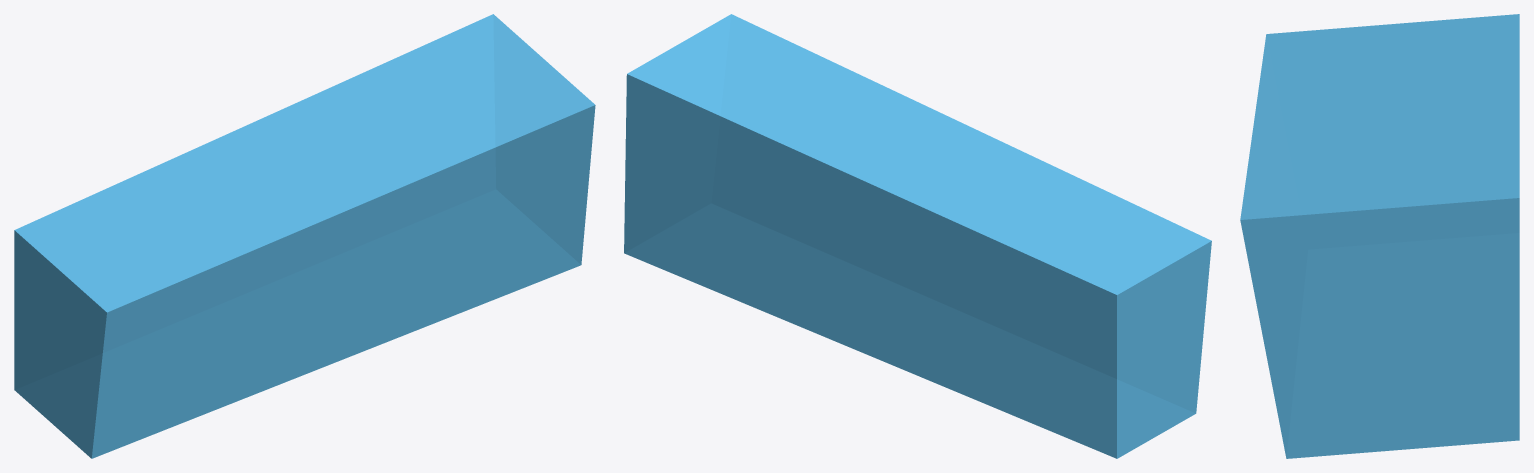
File: Event_421127236_HErechit_19.fbx
3 renders of one model, left to right at view 1: azimuth 30°, elevation 25°; view 2: azimuth 150°, elevation 25°; view 3: azimuth 270°, elevation 25°, orthographic. The views are drawn at different scales.
Parts seen in each view (by area): view 1: Model; view 2: Model; view 3: Model.
Boxes of the visible parts, bbox=[...] form: Model: bbox=[14, 14, 595, 458]; Model: bbox=[624, 14, 1211, 458]; Model: bbox=[1240, 14, 1519, 458].
Bounding box in the file's own units: 1.05 × 0.5658 × 0.3857.
